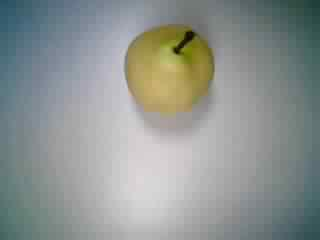pear: (116, 19, 222, 126)
